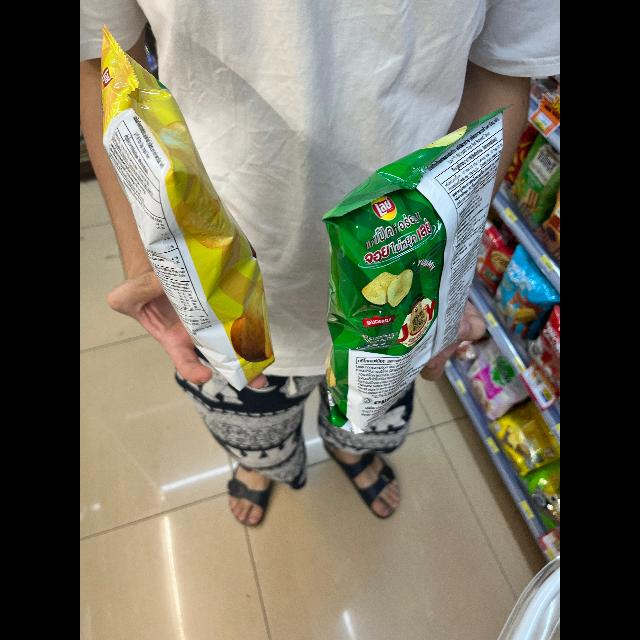snack_bag: (91, 24, 291, 404), (308, 104, 512, 436)
